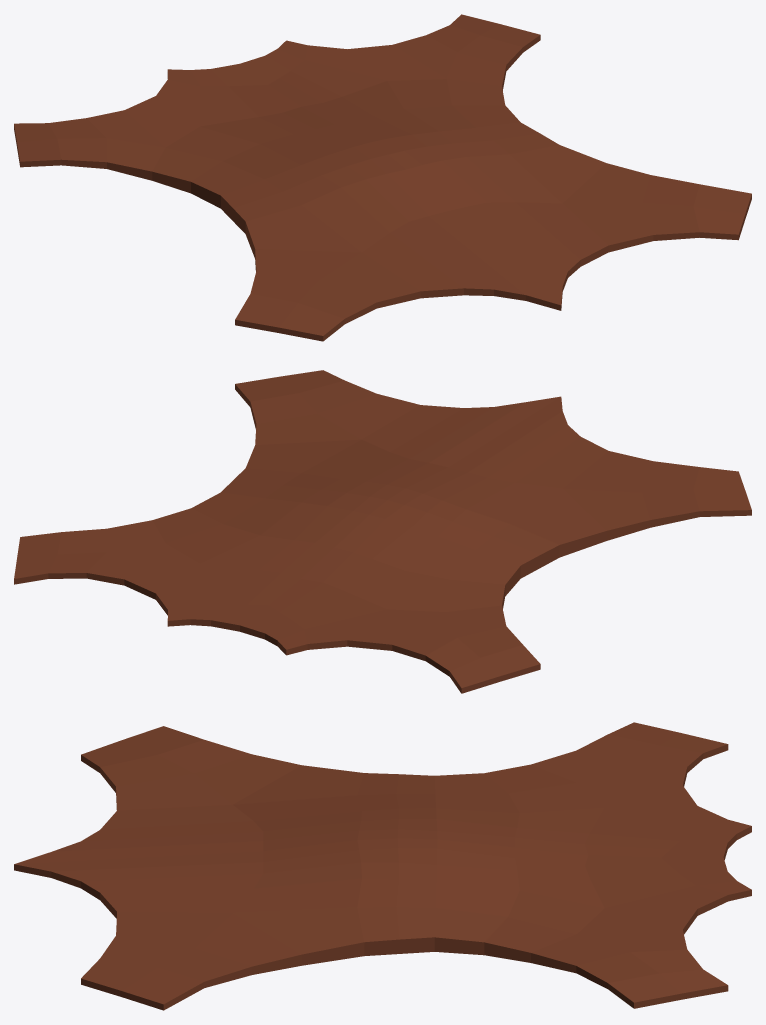
The model's file is Leather.fbx.
3 renders of one model, top to bottom at view 1: azimuth 30°, elevation 25°; view 2: azimuth 150°, elevation 25°; view 3: azimuth 270°, elevation 25°, orthographic. The views are drawn at different scales.
Parts seen in each view (by area): view 1: Box.003; view 2: Box.003; view 3: Box.003.
Part boxes in pixels (x1,y1,x2,y2): Box.003: (14, 14, 751, 341); Box.003: (14, 370, 751, 693); Box.003: (14, 722, 751, 1010).
Bounding box in the file's own units: 50.82 × 2.91 × 56.54.
